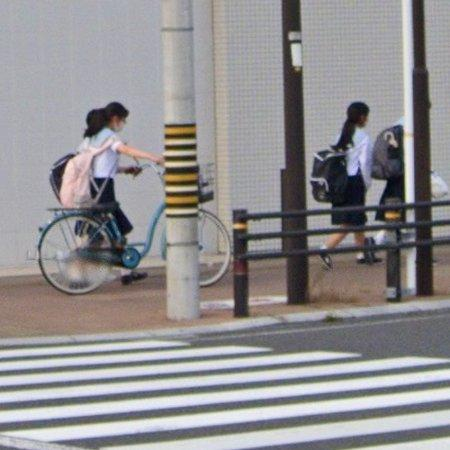crosswalks: (0, 332, 450, 448)
